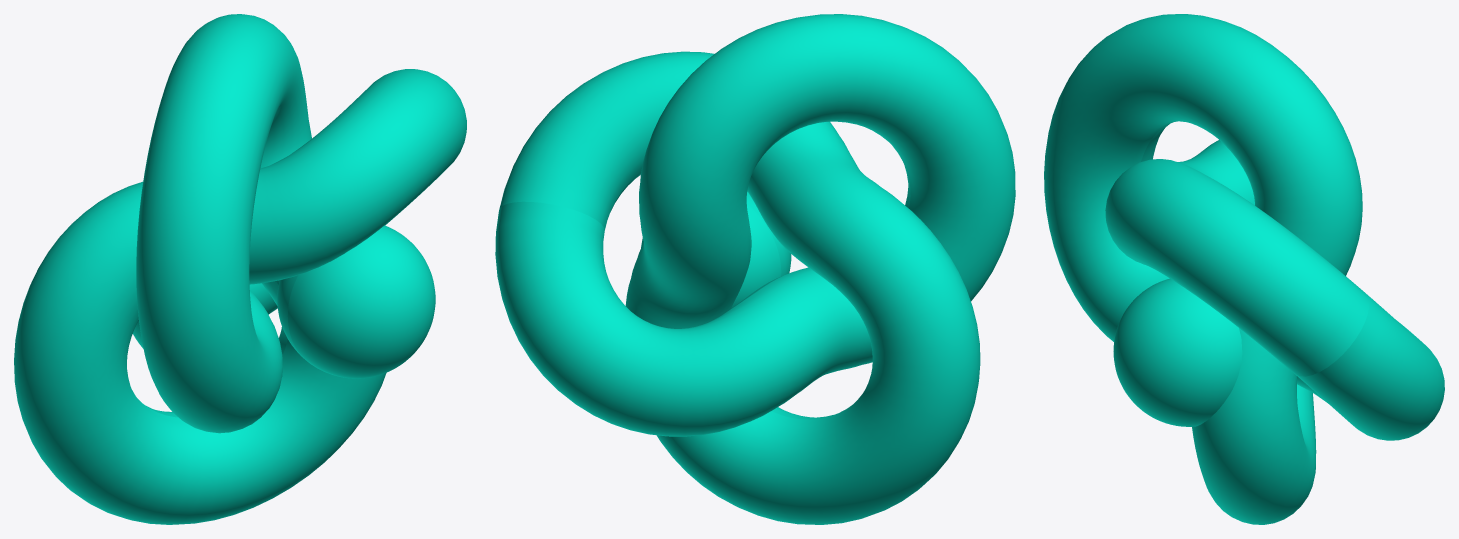
Rendered from mint-blob.glb.
3 views of the same model, side by side, from view 1: azimuth 30°, elevation 25°; view 2: azimuth 150°, elevation 25°; view 3: azimuth 270°, elevation 25° (orthographic). The views are drawn at different scales.
Parts seen in each view (by area): view 1: mint-blob; view 2: mint-blob; view 3: mint-blob.
Part boxes in pixels (x1,y1,x2,y2): mint-blob: [14, 14, 466, 524]; mint-blob: [495, 14, 1015, 524]; mint-blob: [1044, 14, 1444, 524].
Size of the model in its own units: 2.12 by 2.25 by 1.71.
